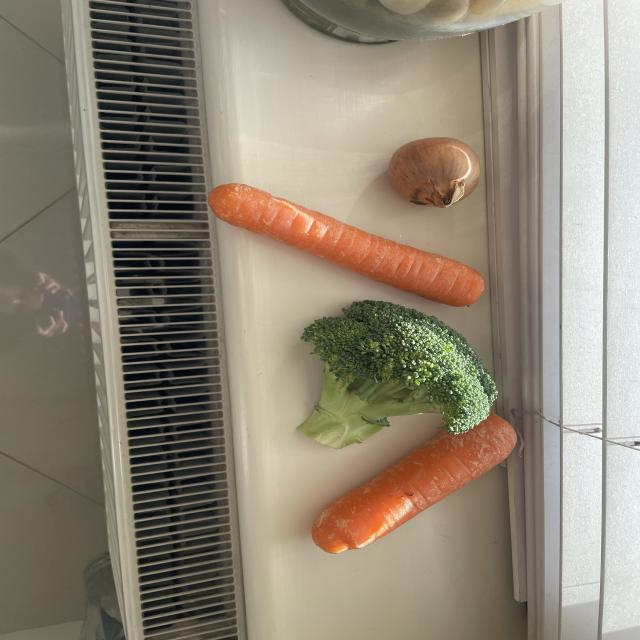Broccoli: (292, 298, 500, 450)
Carrot: (206, 182, 486, 310), (308, 410, 521, 554)
Onion: (391, 133, 484, 209)
